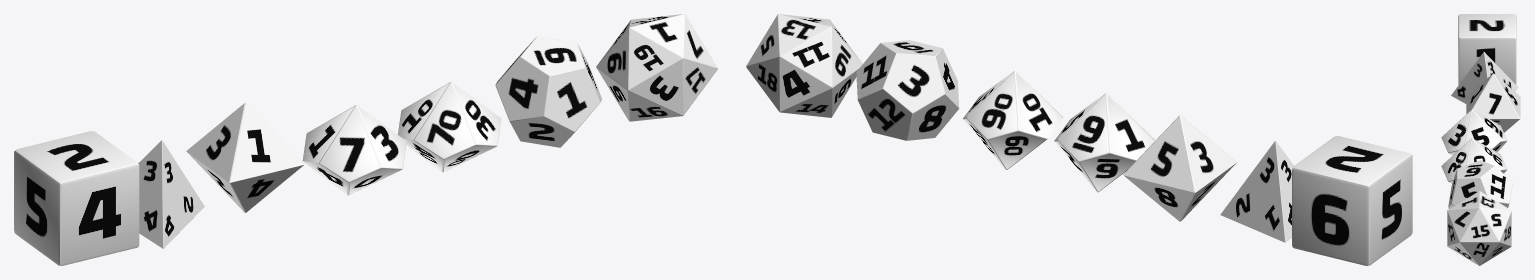
File: newDice.FBX
3 renders of one model, left to right at view 1: azimuth 30°, elevation 25°; view 2: azimuth 150°, elevation 25°; view 3: azimuth 270°, elevation 25°, orthographic. The views are drawn at different scales.
Parts seen in each view (by area): view 1: 6, 20, 12, 8, Mesh, 00, pPyramid1; view 2: 6, 20, 12, 8, 00, Mesh, pPyramid1; view 3: 20, 6, 12, 8, Mesh, 00, pPyramid1.
Part boxes in pixels (box(x1,y1,x2,y2)): 6: box(14, 131, 139, 265); 20: box(596, 14, 717, 121); 12: box(495, 36, 601, 147); 8: box(186, 102, 304, 212); Mesh: box(302, 105, 406, 195); 00: box(398, 81, 501, 172); pPyramid1: box(138, 140, 204, 248); 6: box(1292, 136, 1412, 265); 20: box(746, 14, 862, 117); 12: box(856, 40, 959, 140); 8: box(1123, 115, 1237, 221); 00: box(963, 71, 1063, 169); Mesh: box(1054, 93, 1154, 192); pPyramid1: box(1220, 141, 1293, 242); 20: box(1447, 191, 1511, 265); 6: box(1458, 14, 1516, 85); 12: box(1448, 160, 1512, 208); 8: box(1466, 73, 1520, 132); Mesh: box(1441, 109, 1507, 154); 00: box(1441, 138, 1507, 183); pPyramid1: box(1451, 52, 1518, 103).
Bounding box in the file's own units: 794 × 126 × 133.
Materials: 7 (7 with a texture image).
